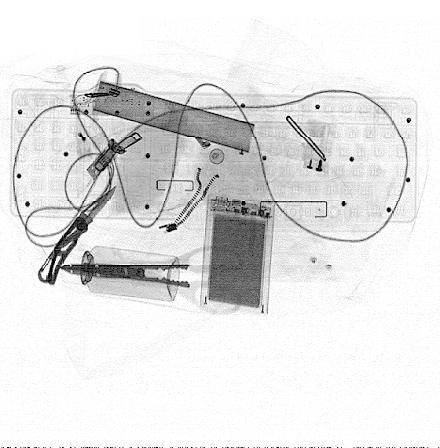Knife: (37, 187, 116, 286)
Powerbank: (200, 190, 276, 317)
Scissors: (63, 246, 247, 318)
Sprayer: (62, 242, 180, 301)
